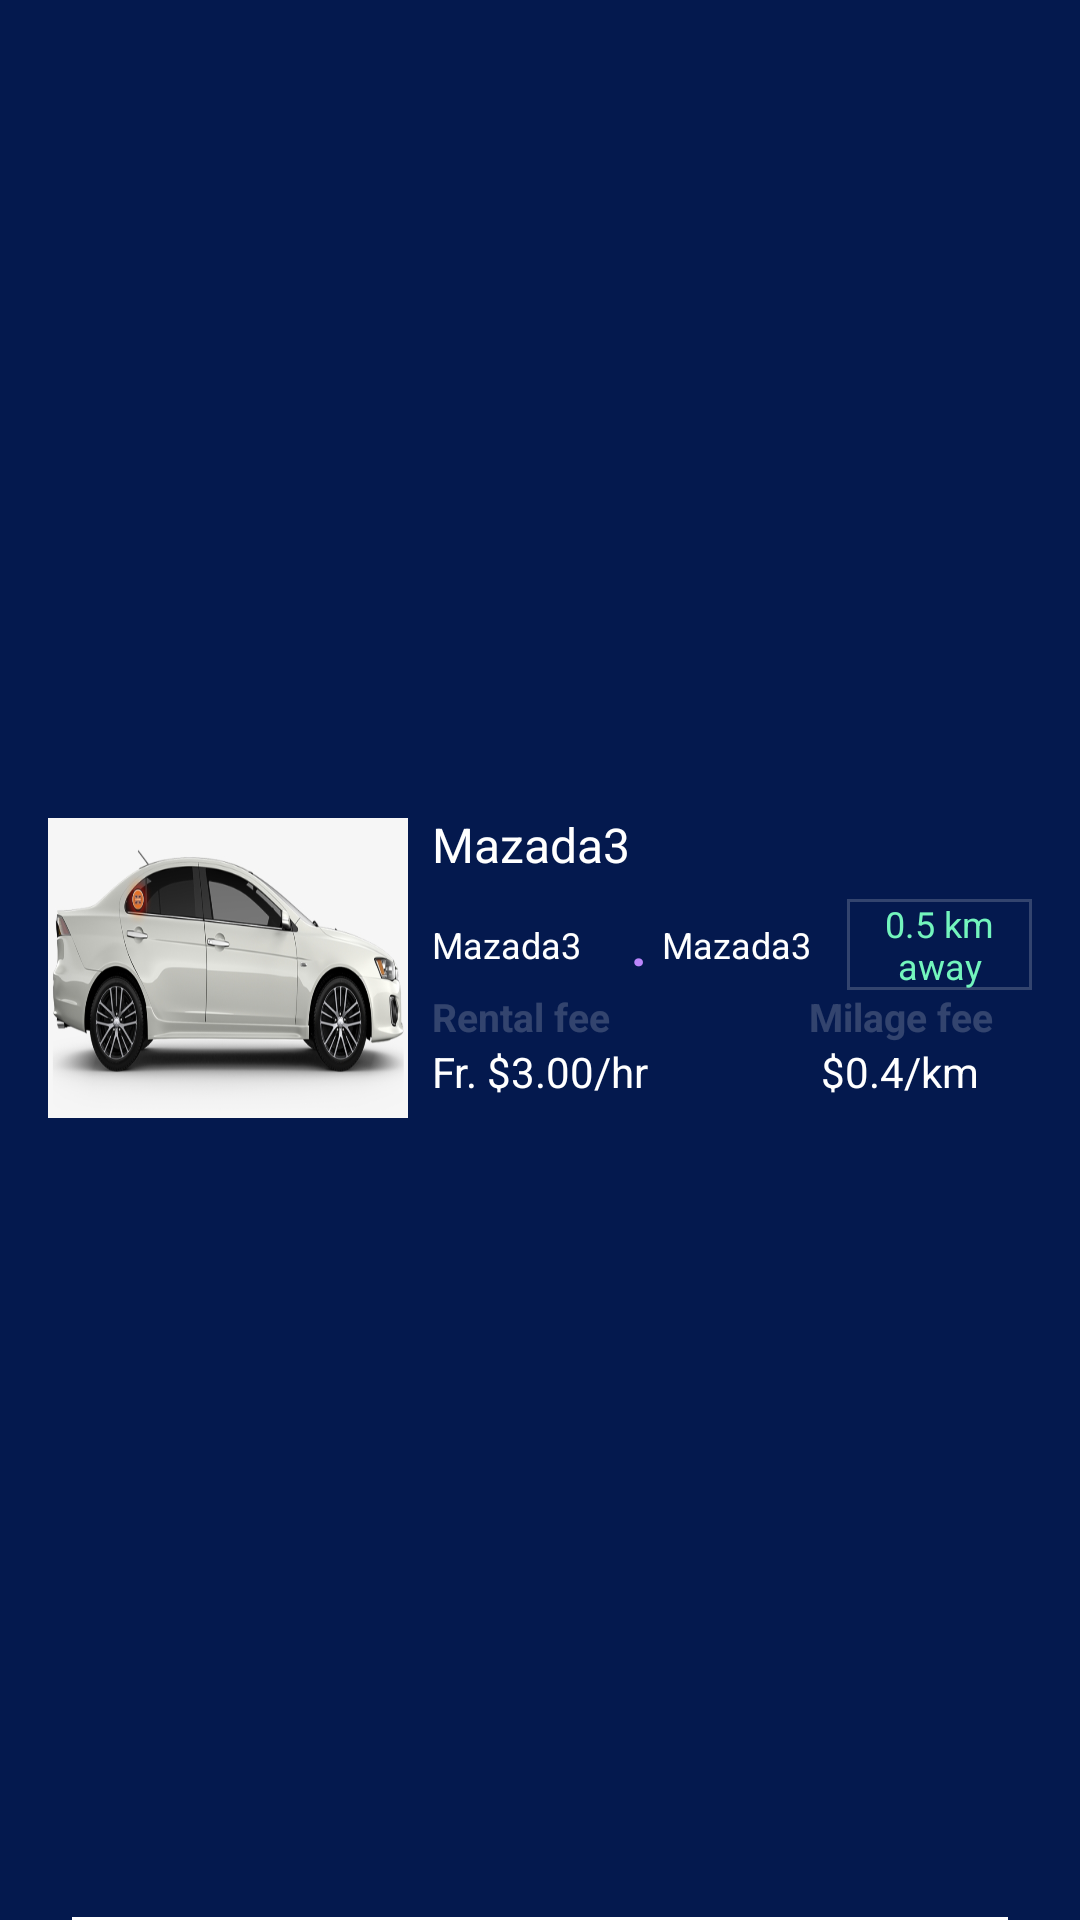

Where to tap for icons on this 1080x1920 app screen, as [x,y]:
car: [228,968]
